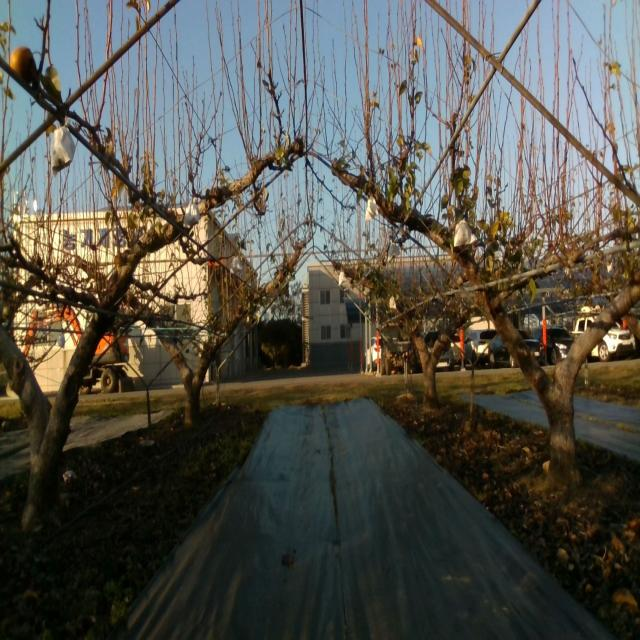pearbags: (50, 116, 76, 178), (182, 197, 200, 230), (453, 220, 475, 245), (386, 239, 401, 263)
